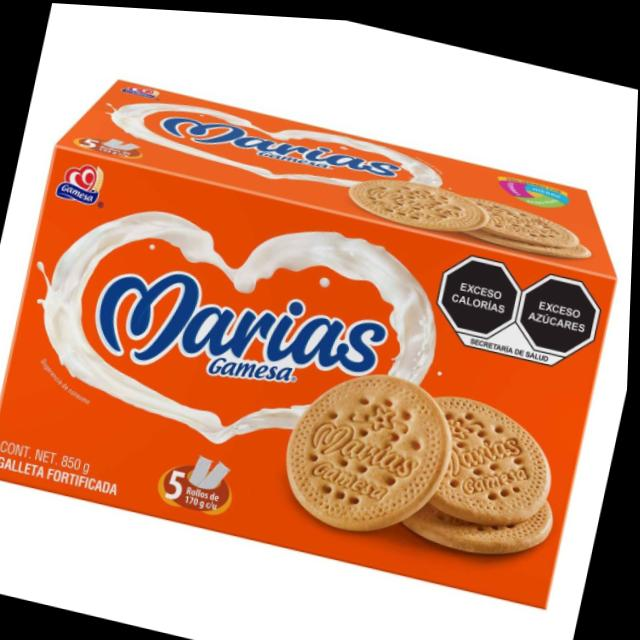Caja: (0, 23, 639, 640)
